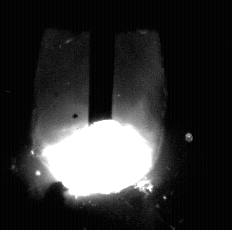arame: (89, 0, 114, 125)
poca: (33, 0, 163, 230)
